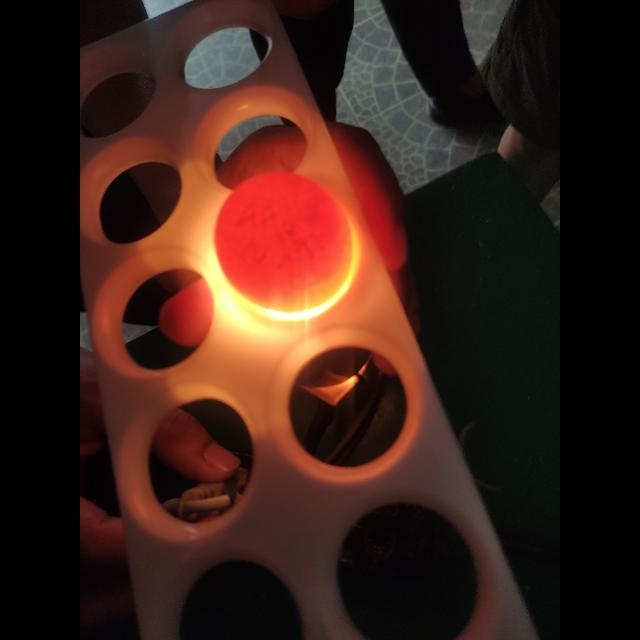Infertile: (214, 172, 360, 321)
